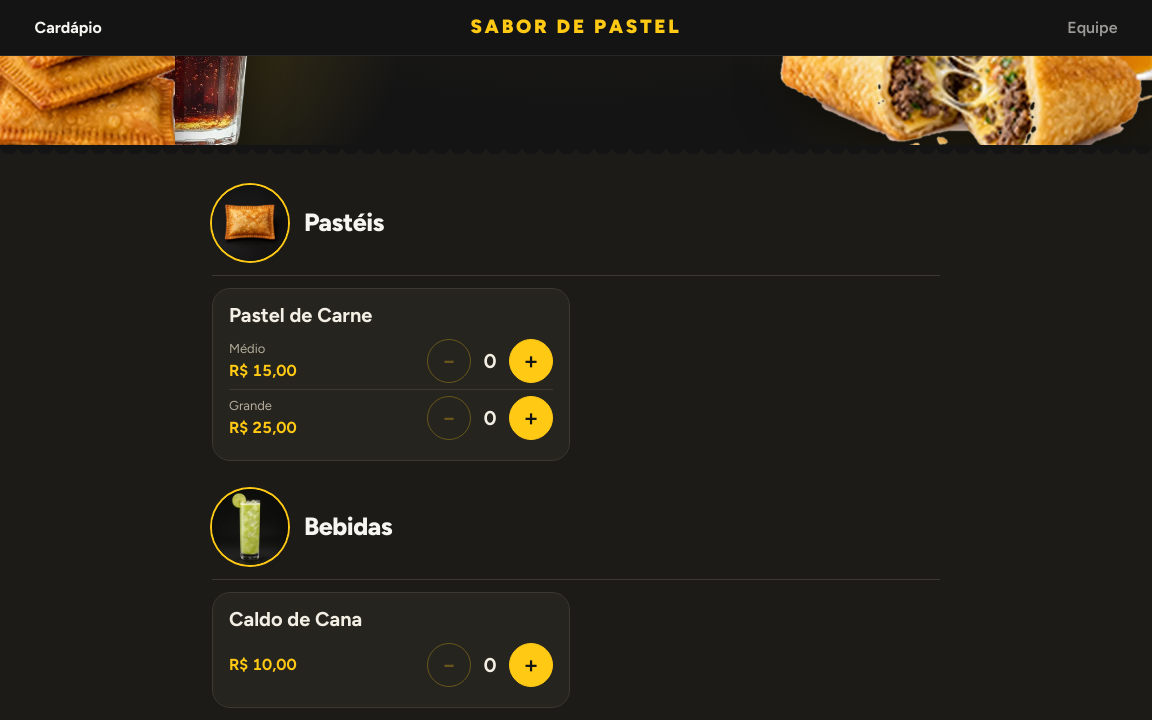
os dados só aparecem depois de escolher um item
(page scrolled)
expect the text "Pastel de Carne" is shown: met, box [229,303,372,327]
expect the field labelled "Telefone com DDD" is not shown: met
Click the button named "Aumentar Pastel de Carne M" at {"x": 531, "y": 361}, box [509,339,553,383]
(page scrolled)
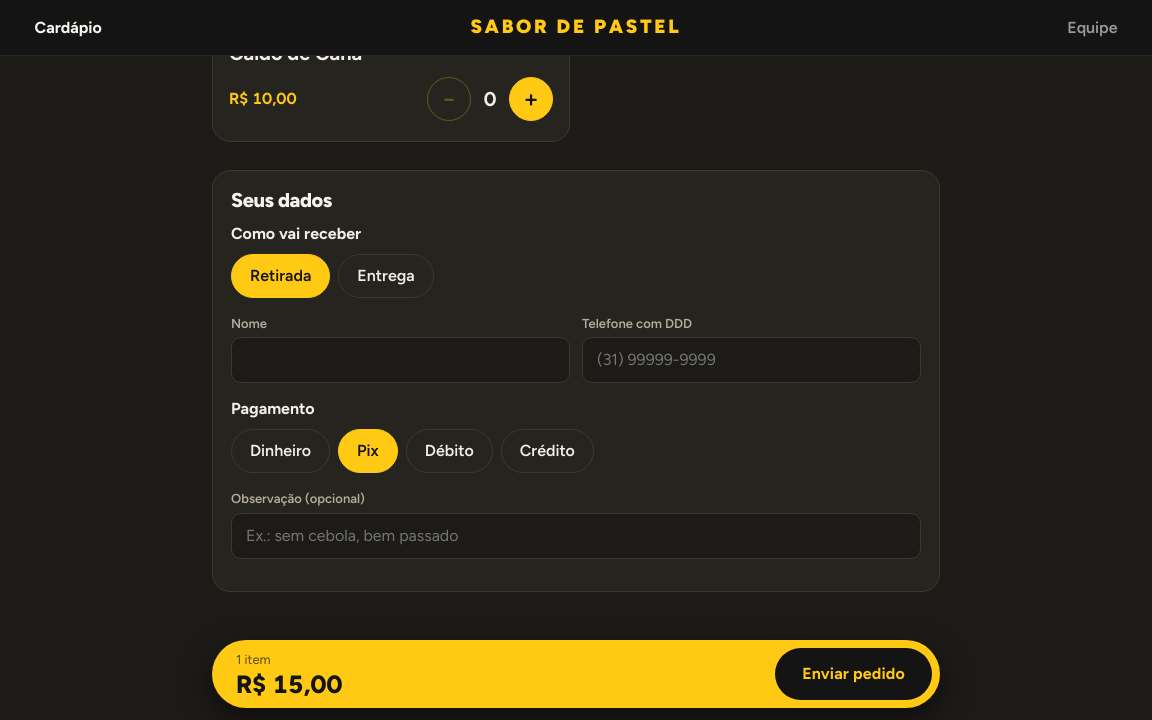
expect the field labelled "Telefone com DDD" is shown: met, box [582,337,921,383]
